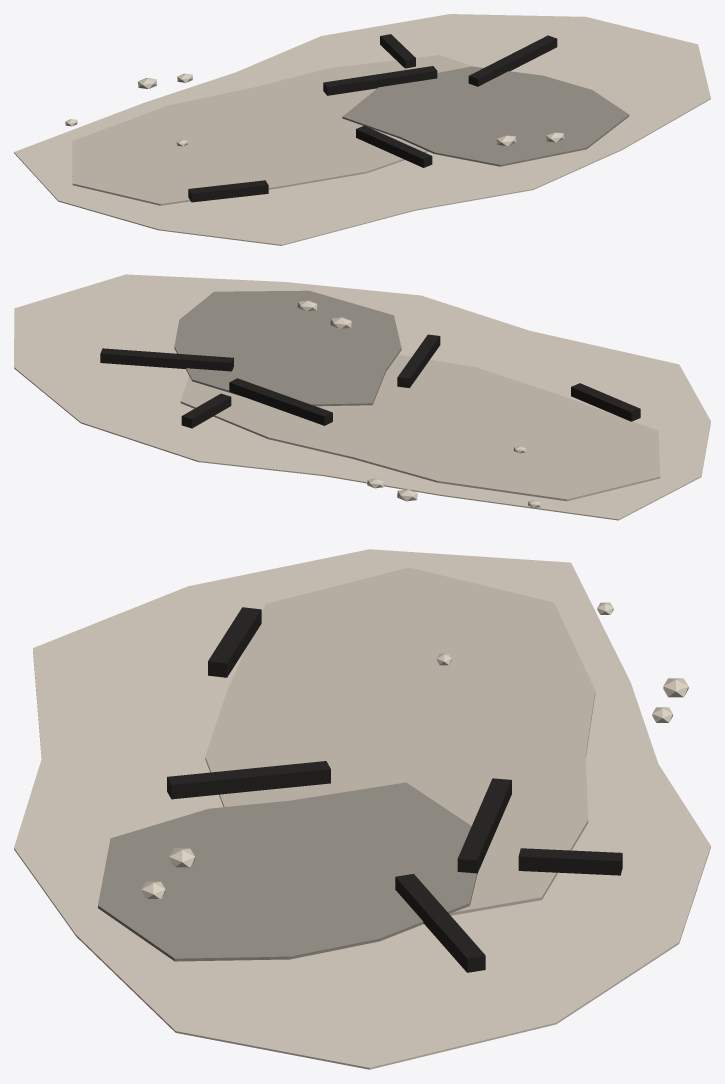
File: SM_VKI_Overlay_Ash.fbx
The picture shows the model from 3 angles, top to bottom: view 1: azimuth 30°, elevation 25°; view 2: azimuth 150°, elevation 25°; view 3: azimuth 270°, elevation 25°; orthographic projection. The views are drawn at different scales.
Parts seen in each view (by area): view 1: SM_VKI_Overlay_Ash.001; view 2: SM_VKI_Overlay_Ash.001; view 3: SM_VKI_Overlay_Ash.001.
Part boxes in pixels (bbox=[...]): SM_VKI_Overlay_Ash.001: bbox=[14, 14, 710, 245]; SM_VKI_Overlay_Ash.001: bbox=[14, 274, 710, 520]; SM_VKI_Overlay_Ash.001: bbox=[14, 549, 710, 1069].
Size of the model in its own units: 3.09 by 0.058 by 1.76.
